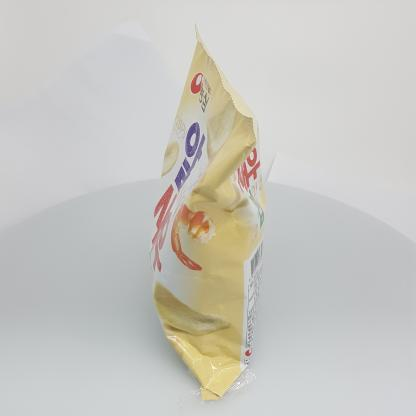Plastic Packaging: (141, 13, 287, 404)
